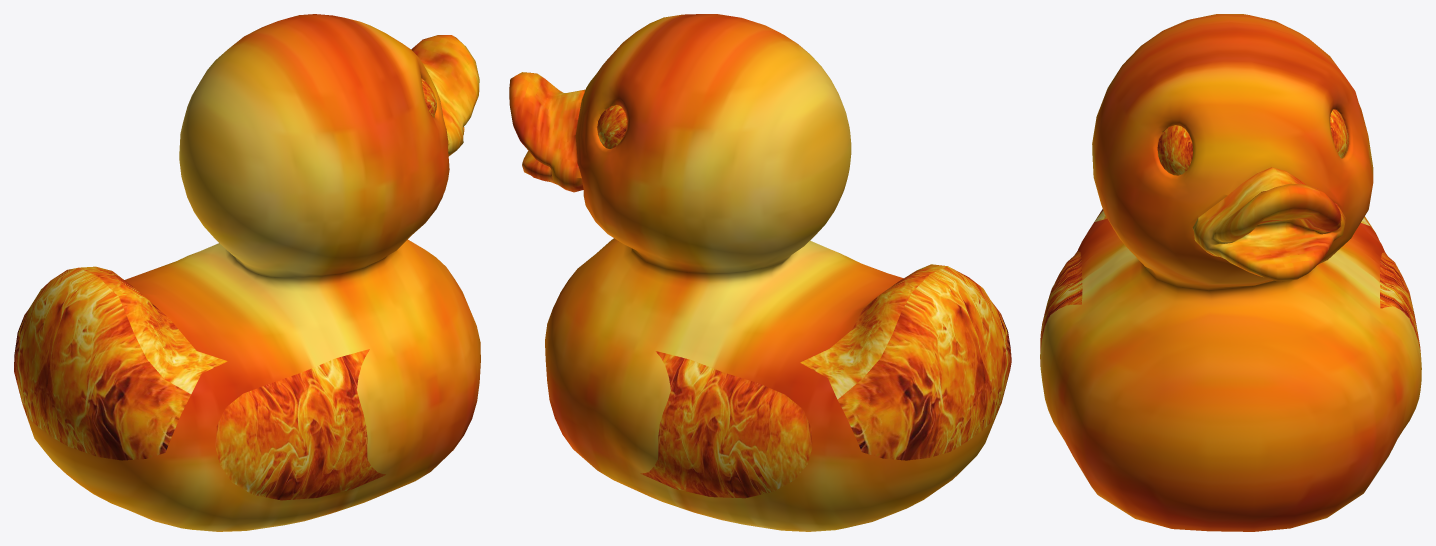
The model's file is FireTest.dae.
3 views of the same model, side by side, from view 1: azimuth 30°, elevation 25°; view 2: azimuth 150°, elevation 25°; view 3: azimuth 270°, elevation 25° (orthographic). The views are drawn at different scales.
Parts seen in each view (by area): view 1: LOD3sp; view 2: LOD3sp; view 3: LOD3sp.
Boxes of the visible parts, <box> form: LOD3sp: <box>14,14,480,531</box>; LOD3sp: <box>509,14,1011,531</box>; LOD3sp: <box>1040,14,1421,531</box>.
Size of the model in its own units: 165 by 154 by 115.
